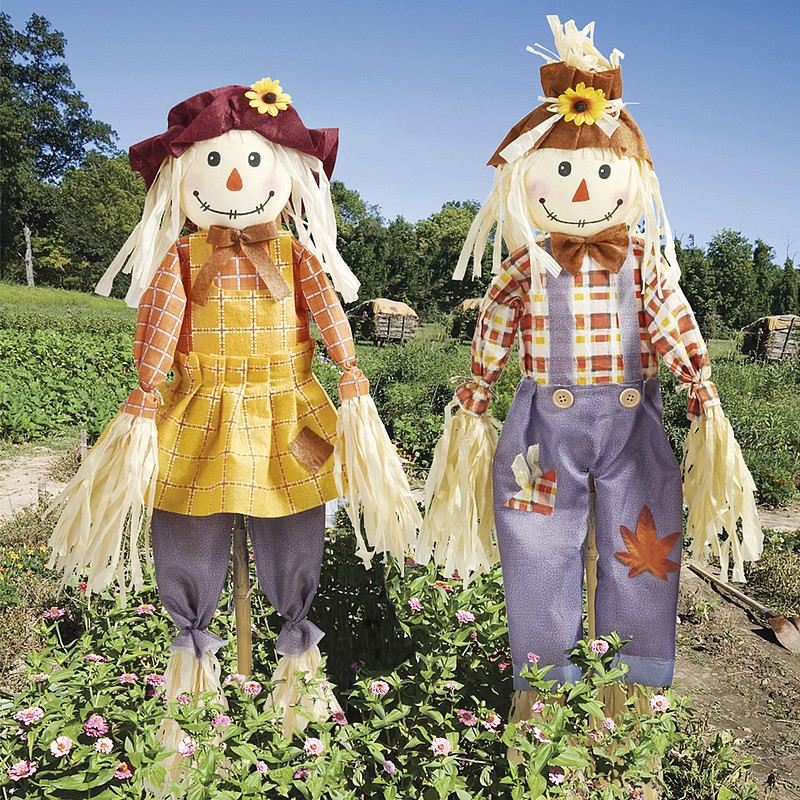person-like: (407, 11, 766, 751), (36, 74, 418, 758)
